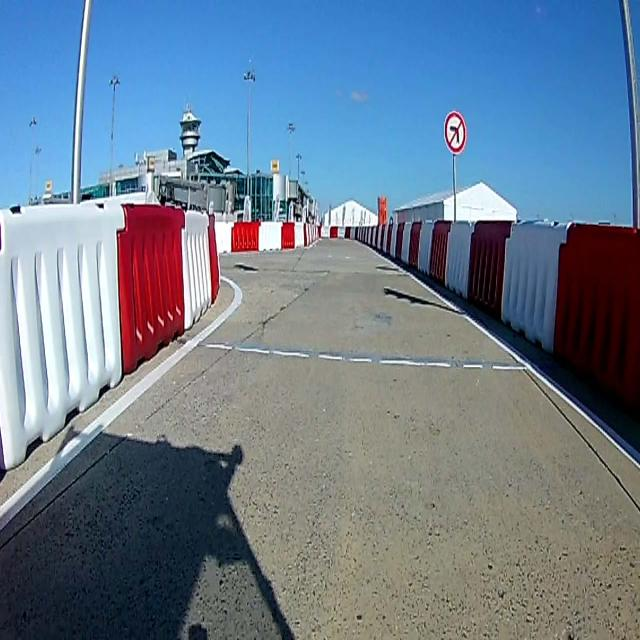soladonulmez: (445, 106, 467, 154)
